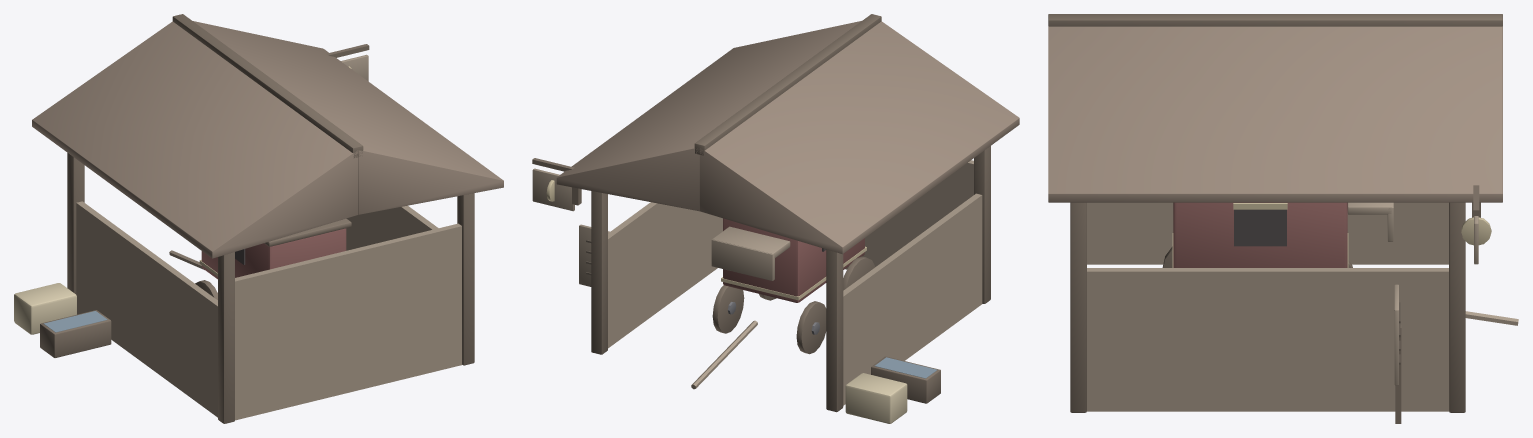
File: coach_house.gltf
3 views of the same model, side by side, from view 1: azimuth 30°, elevation 25°; view 2: azimuth 150°, elevation 25°; view 3: azimuth 270°, elevation 25° (orthographic). The views are drawn at different scales.
Visible parts, largest first — view 1: Body; view 2: Body; view 3: Body.
Boxes of the visible parts, <box> form: Body: <box>14,14,503,423</box>; Body: <box>532,14,1019,423</box>; Body: <box>1048,14,1518,423</box>.
Size of the model in its own units: 7 by 4.66 by 6.21.
